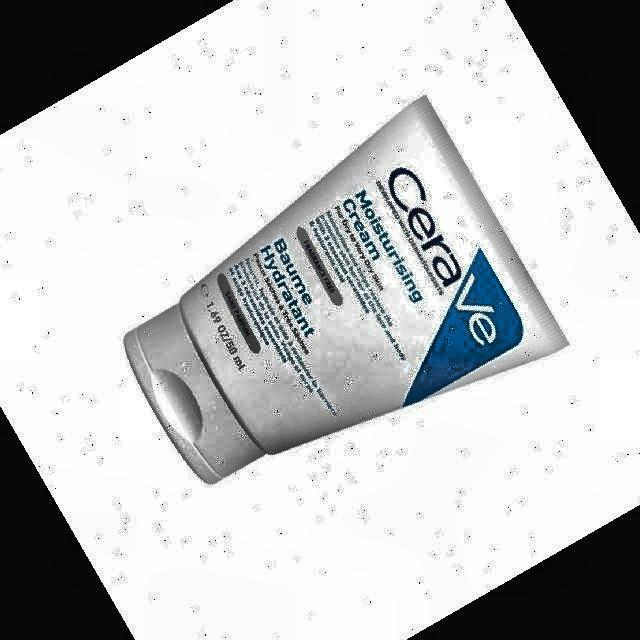plastic: (125, 98, 566, 482)
